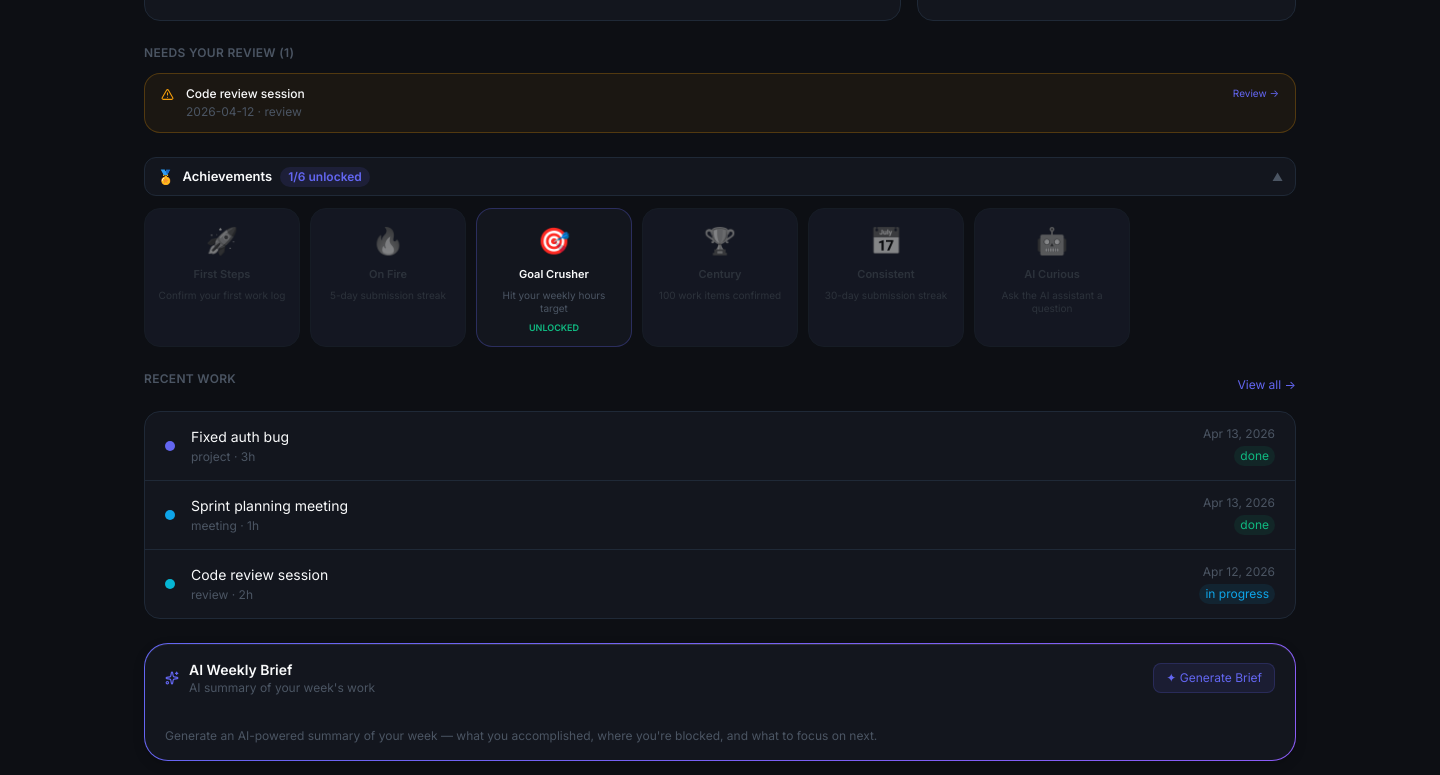
Test: HomeDashboard — AI Weekly Brief › clicking Generate Brief fetches from chat API and shows content
(page scrolled)
Expected: the text "AI Weekly Brief" is shown, x1=189 y1=661 x2=292 y2=678
Click the button "✦ Generate Brief" at (1214, 678), box x1=1153 y1=663 x2=1275 y2=693
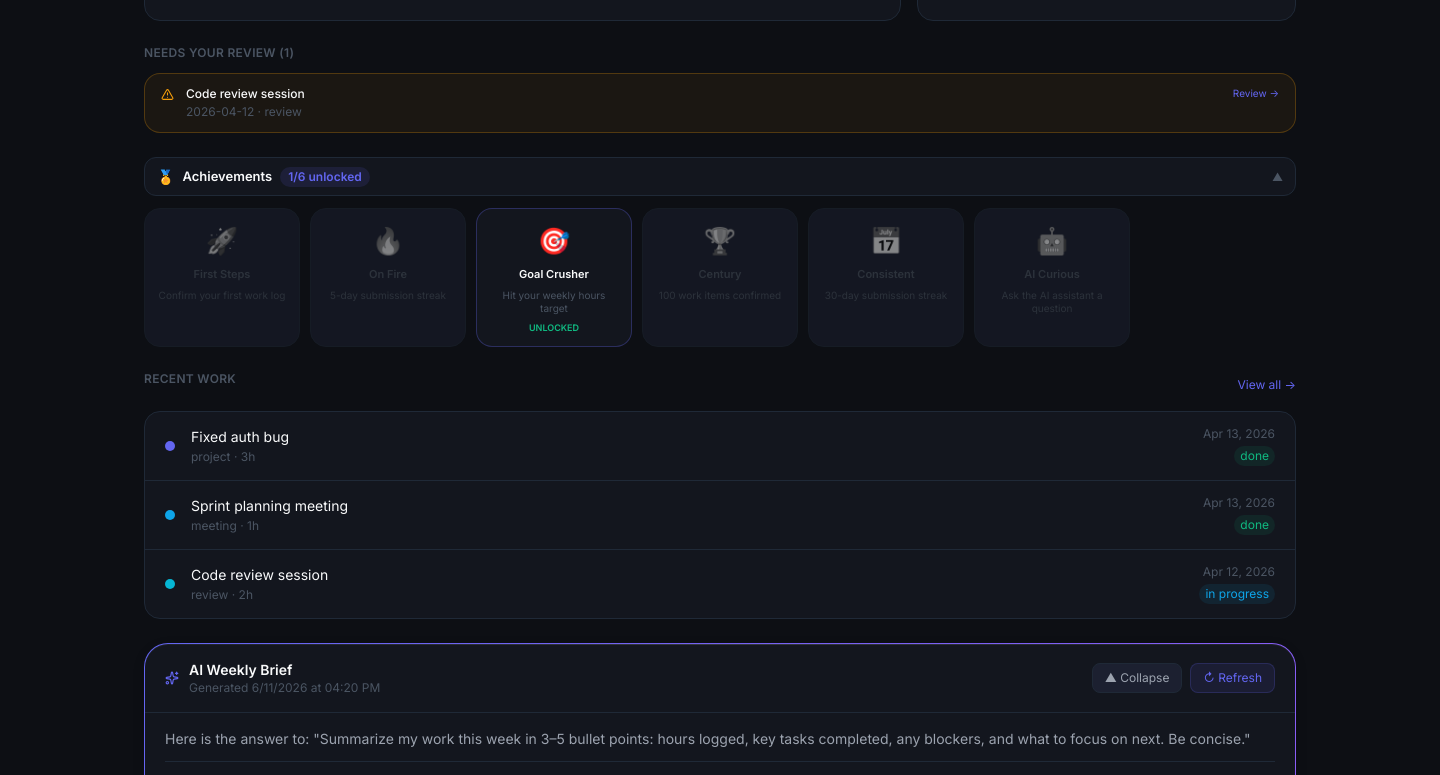
Expected: the text "Here is the answer to" is shown, x1=165 y1=730 x2=1250 y2=747
